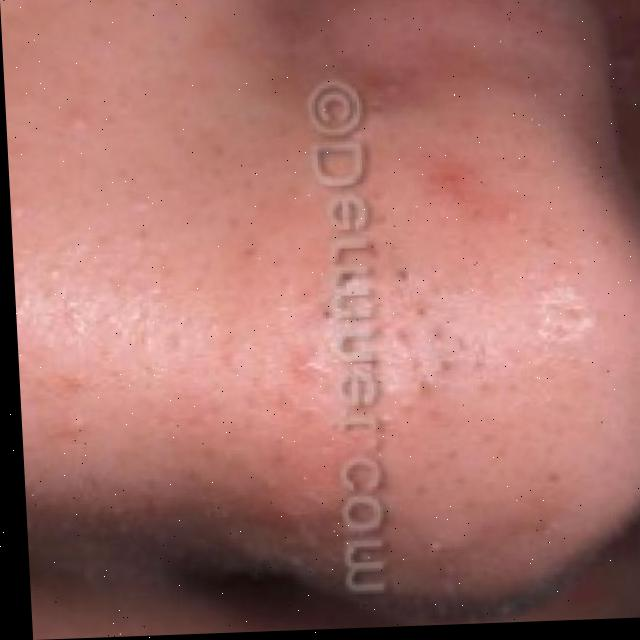Acne: (228, 238, 566, 594)
